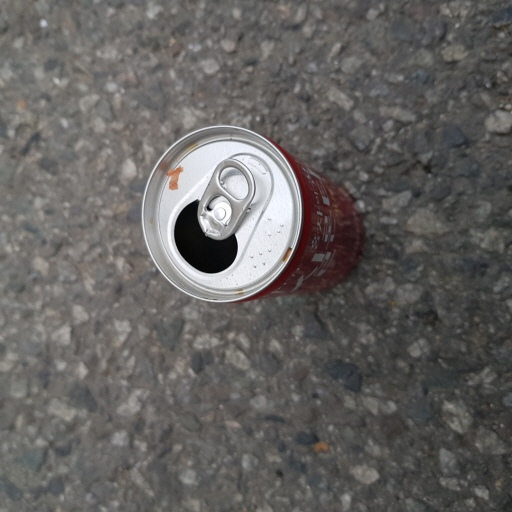Metal_0: (140, 126, 365, 308)
